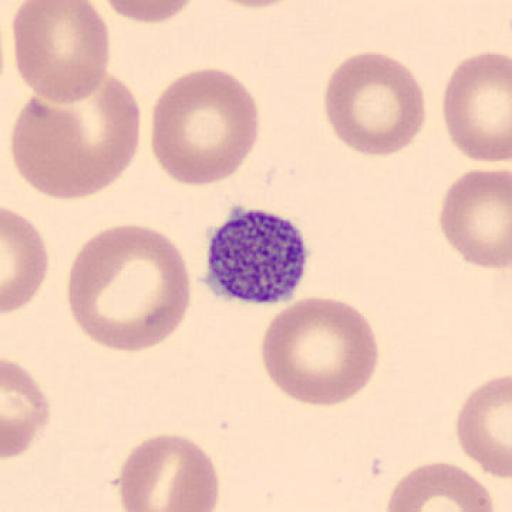Platelet: (201, 206, 312, 306)
RBC: (66, 221, 193, 354), (11, 77, 141, 201), (260, 294, 380, 408), (150, 66, 260, 188), (322, 49, 426, 158), (11, 0, 110, 104), (11, 96, 107, 202), (117, 432, 221, 512), (442, 50, 512, 164), (438, 166, 512, 271), (455, 372, 512, 480), (384, 460, 496, 512), (2, 206, 51, 314), (2, 357, 52, 460), (102, 0, 200, 24), (210, 0, 298, 10)
